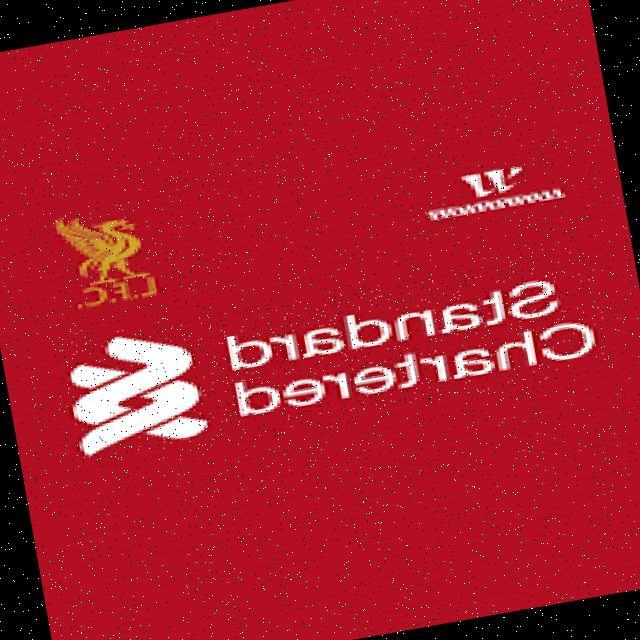Standard Chartered: (57, 247, 614, 463)
